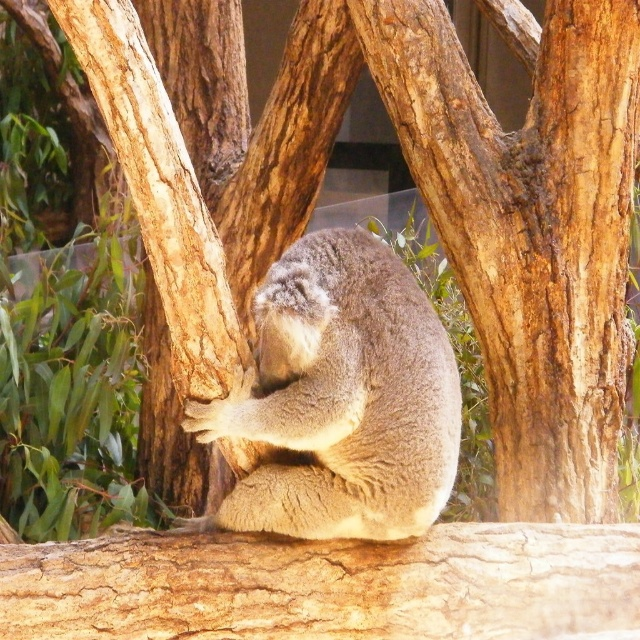Koala: (180, 228, 462, 543)
